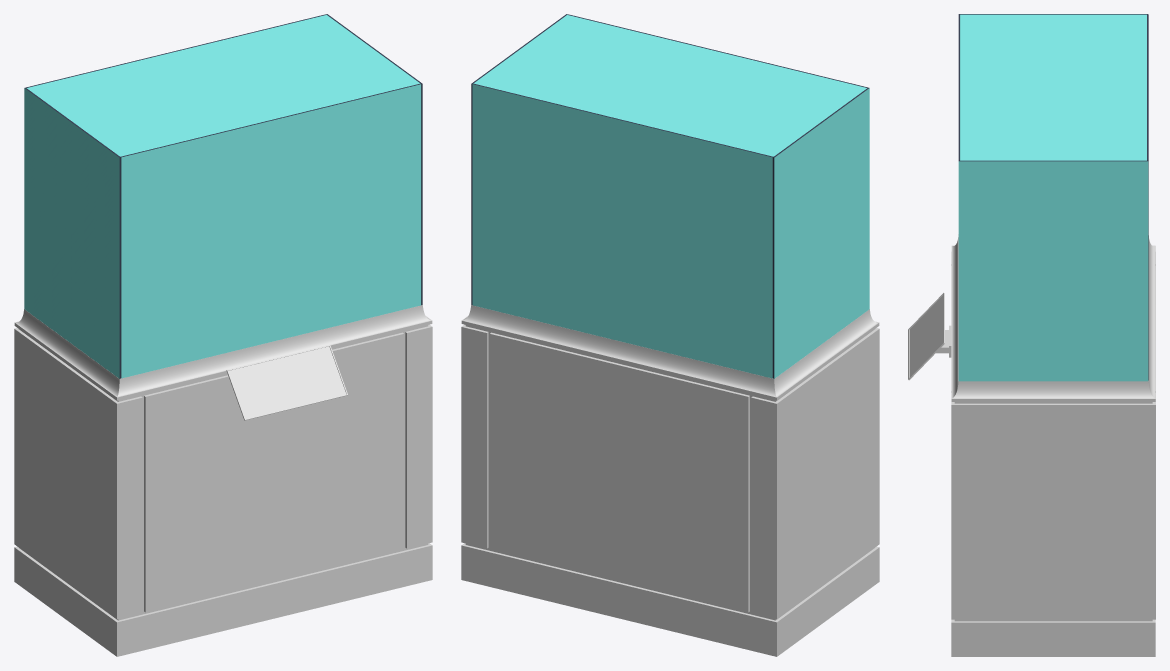
Rendered from Display Case.fbx.
3 renders of one model, left to right at view 1: azimuth 30°, elevation 25°; view 2: azimuth 150°, elevation 25°; view 3: azimuth 270°, elevation 25°, orthographic.
Visible parts, largest first — view 1: Glass, Display, Info, Information_Pedestal; view 2: Glass, Display; view 3: Glass, Display, Info, Information_Pedestal.
Part boxes in pixels (<box>): Glass: <box>24,14,422,378</box>; Display: <box>14,305,432,656</box>; Info: <box>228,346,346,418</box>; Information_Pedestal: <box>226,345,347,420</box>; Glass: <box>471,14,869,378</box>; Display: <box>461,305,879,656</box>; Glass: <box>958,14,1148,381</box>; Display: <box>951,234,1155,656</box>; Info: <box>909,295,942,376</box>; Information_Pedestal: <box>908,293,951,380</box>.
Bounding box in the file's own units: 115 × 172 × 78.24.
